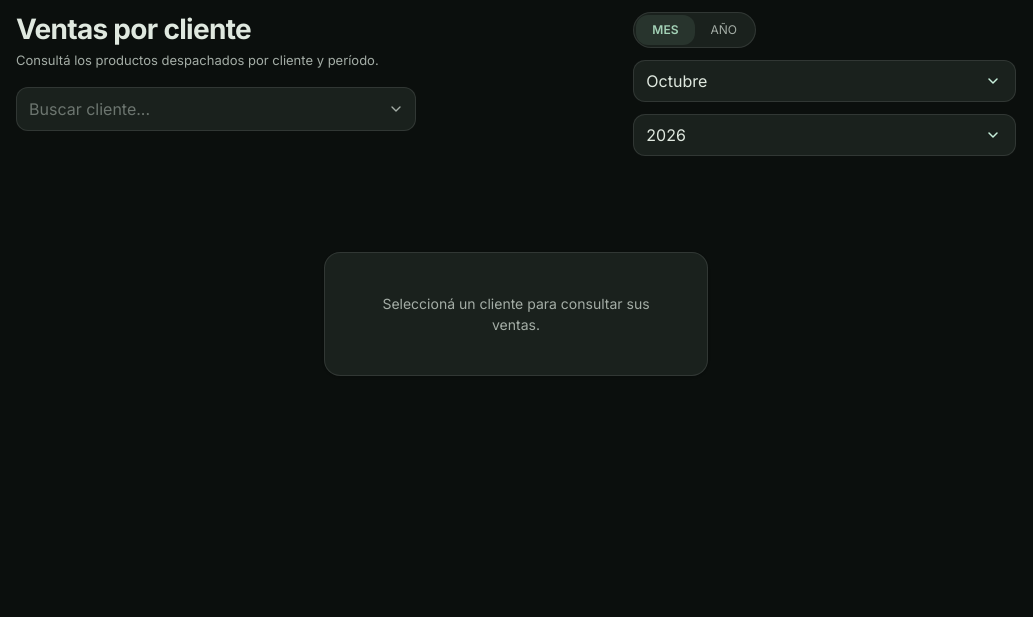
Test case: VentasPage › shows a loading skeleton while the report is being fetched
Step 1. Click the dropdown with placeholder "Buscar cliente..." → click(216, 108), box [16, 86, 416, 130]
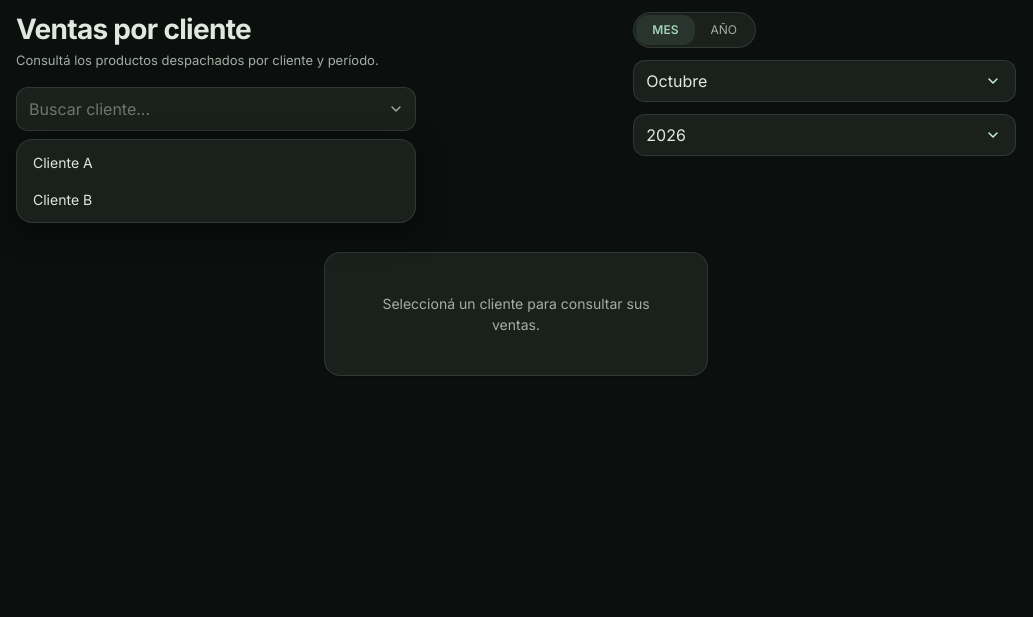
Step 2. Click the option "Cliente A" → click(63, 162), box [21, 144, 411, 180]
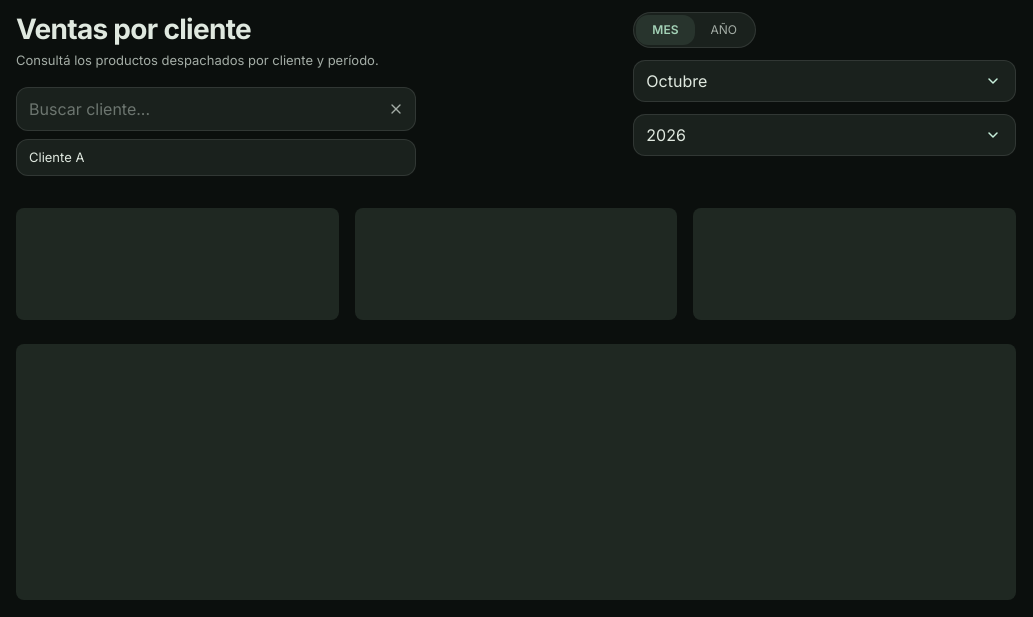
Result: the element with test id "ventas-loading" is shown
